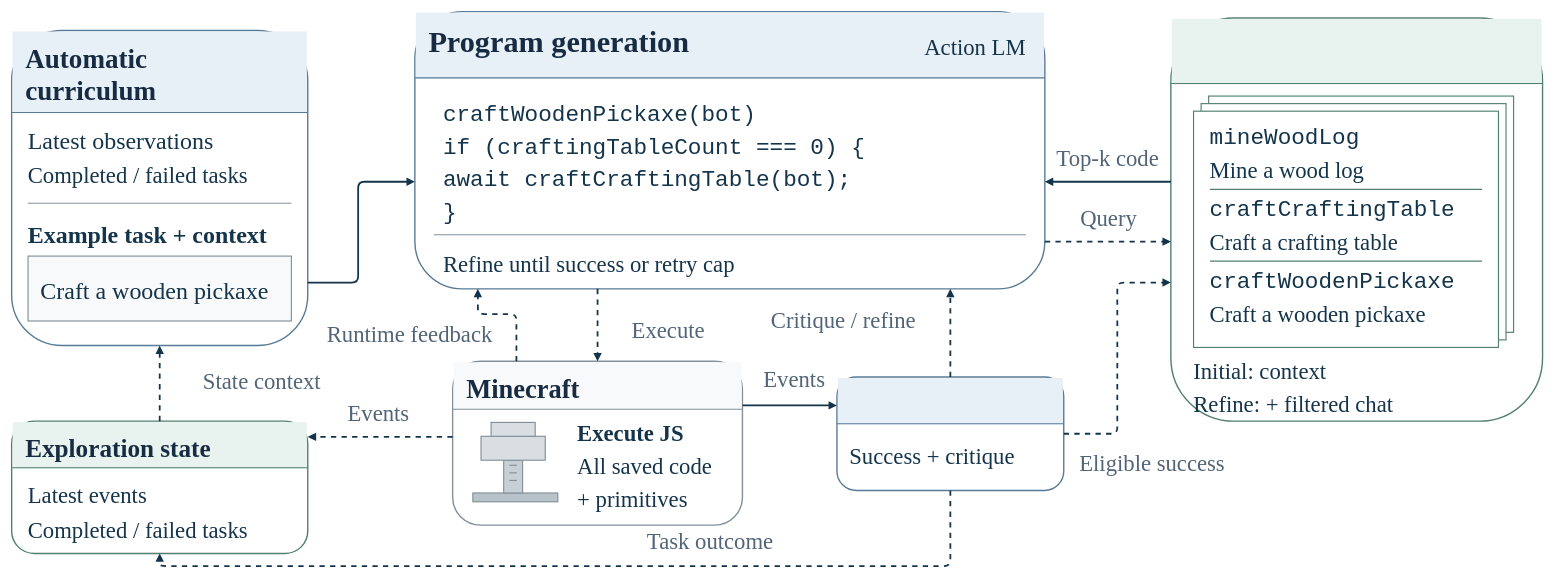
Some shapes in this 1554 by 583 pixel diagram are drawn without their labels. Here are the shapes that lost their labels. From the top down, the centre of each, then its label:
point 1356,51: Skill library
point 950,401: Critic
